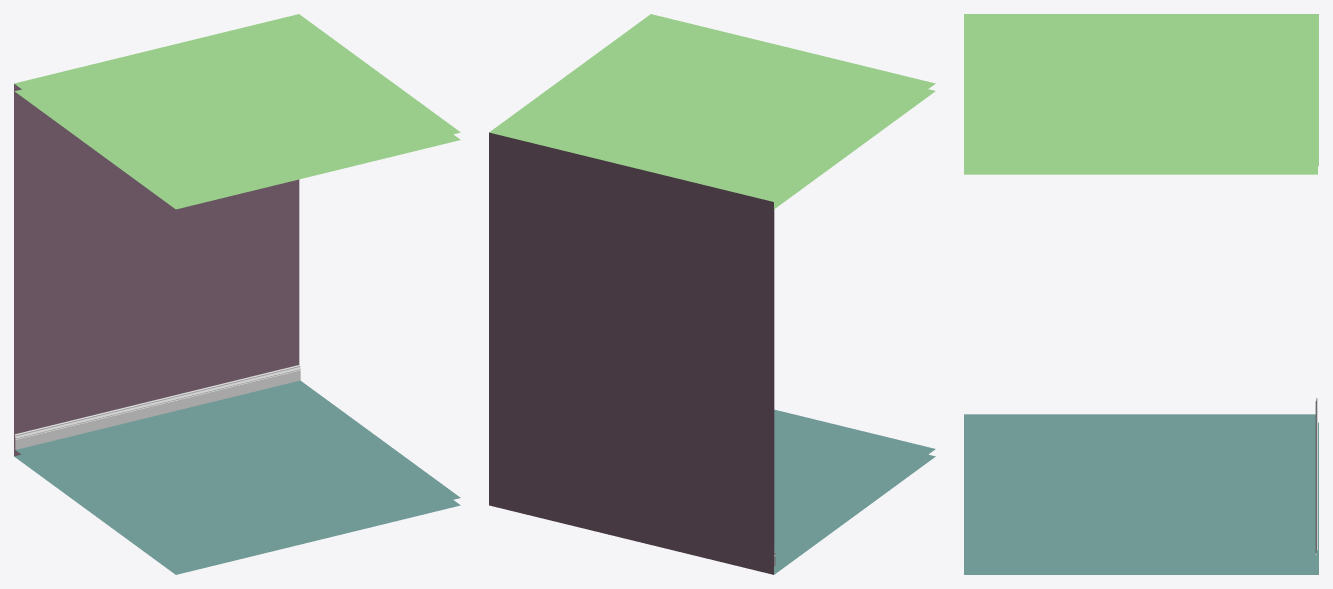
The model's file is Wall_2x2_side.fbx.
The picture shows the model from 3 angles, left to right: view 1: azimuth 30°, elevation 25°; view 2: azimuth 150°, elevation 25°; view 3: azimuth 270°, elevation 25°; orthographic projection. The views are drawn at different scales.
Visible parts, largest first — view 1: Wall_2x2_side; view 2: Wall_2x2_side; view 3: Wall_2x2_side.
Boxes of the visible parts, x1,y1,x2,y2 form: Wall_2x2_side: [14, 14, 460, 574]; Wall_2x2_side: [489, 14, 935, 574]; Wall_2x2_side: [964, 14, 1318, 574].
Bounding box in the file's own units: 2 × 2.5 × 1.97.
